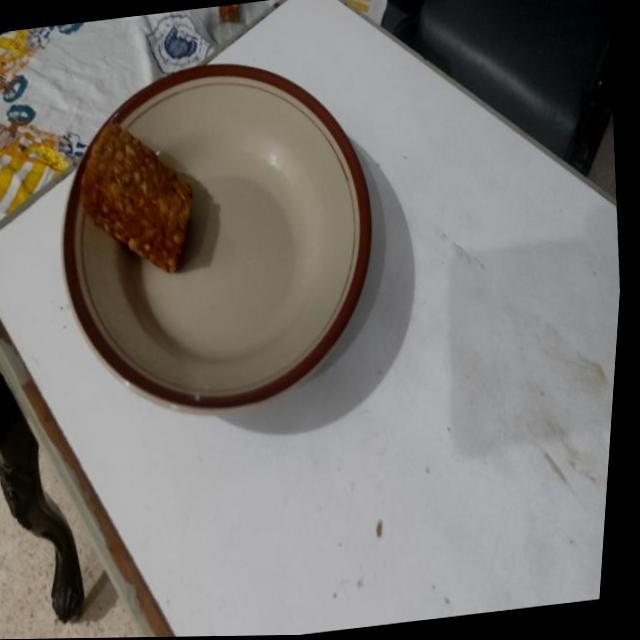tempe_goreng: (80, 121, 192, 272)
